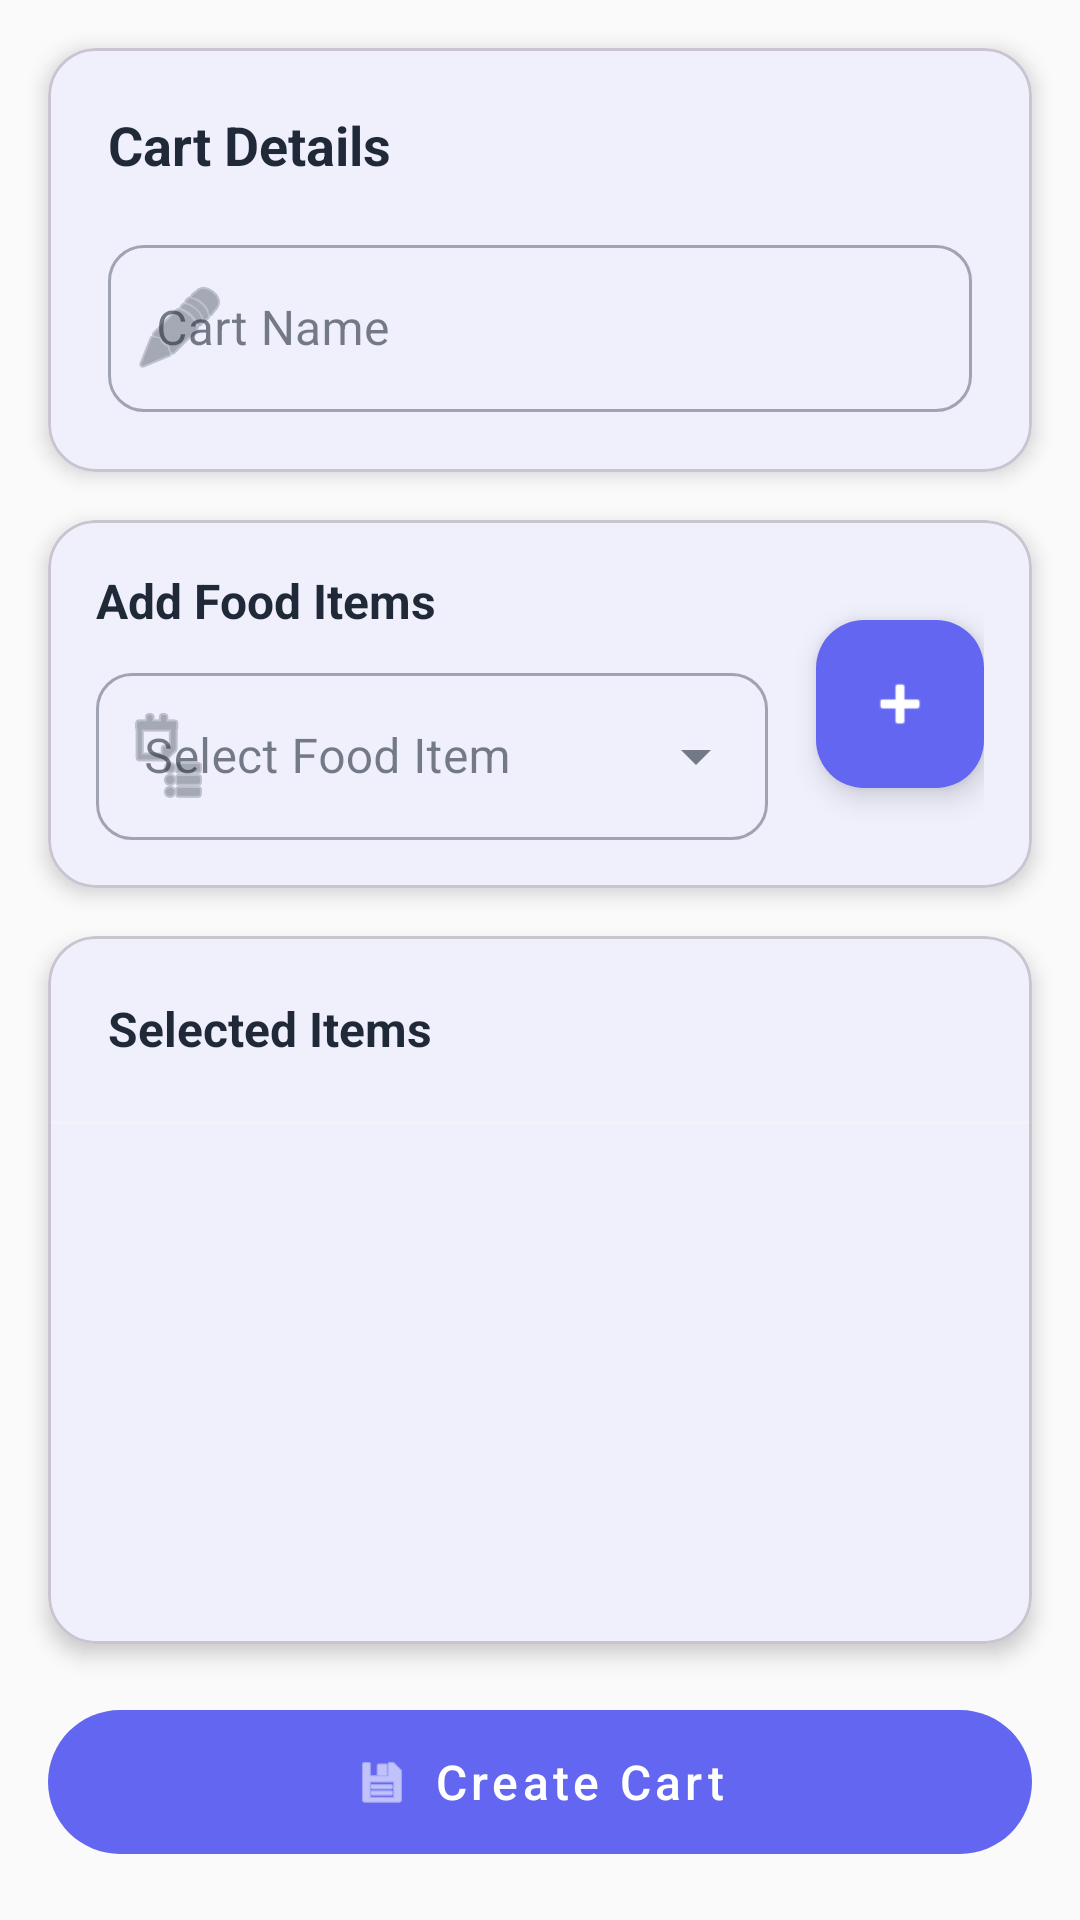

Screen size 1080w x 1920h. Icon name, then its box in pixels as [left=x1, top=y1, right=x2, bottom=y2]:
add: [left=816, top=620, right=984, bottom=788]
